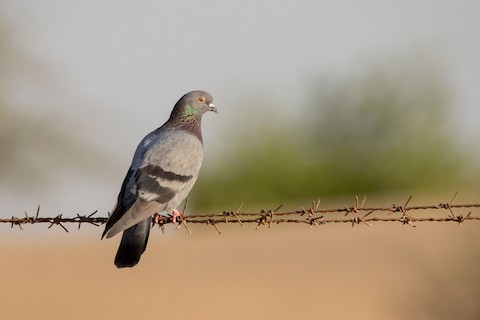pigeon: (98, 88, 219, 273)
